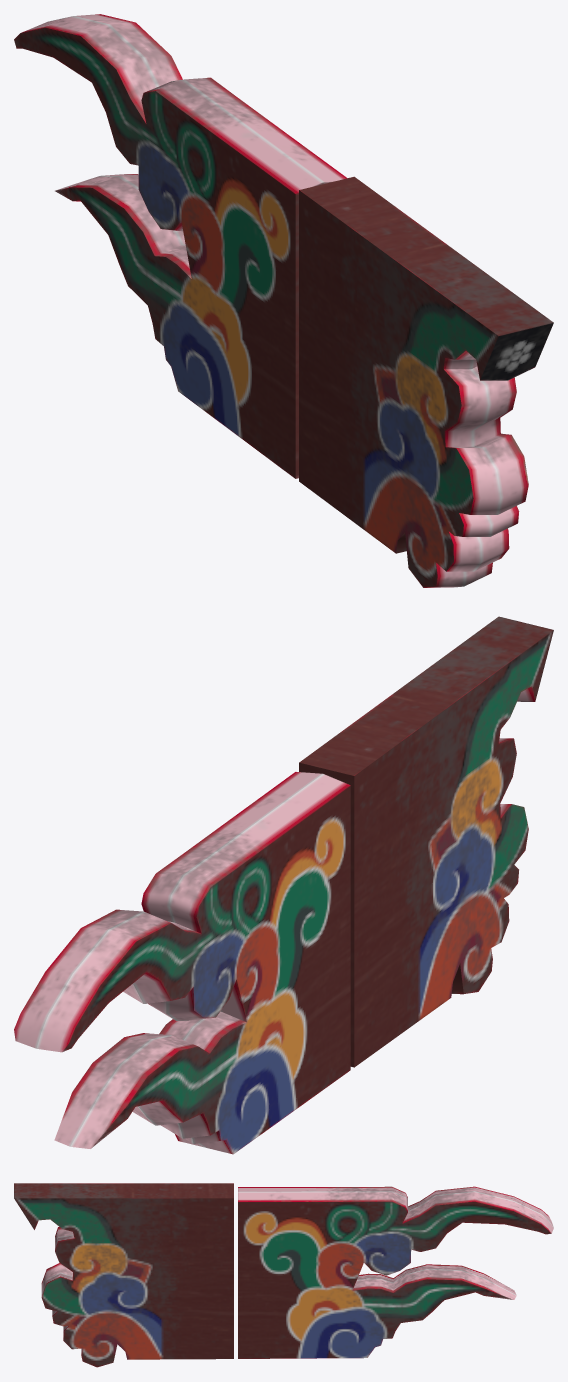
Rendered from SM_Gongpo02a.fbx.
The picture shows the model from 3 angles, top to bottom: view 1: azimuth 30°, elevation 25°; view 2: azimuth 150°, elevation 25°; view 3: azimuth 270°, elevation 25°; orthographic projection. The views are drawn at different scales.
Visible parts, largest first — view 1: SM_Gongpo02a; view 2: SM_Gongpo02a; view 3: SM_Gongpo02a.
Boxes of the visible parts, x1=… form: SM_Gongpo02a: x1=14, y1=14, x2=553, y2=587; SM_Gongpo02a: x1=14, y1=616, x2=553, y2=1154; SM_Gongpo02a: x1=14, y1=1183, x2=553, y2=1367.
Size of the model in its own units: 8.82 by 135 by 47.83.
1 material, 1 textured.
